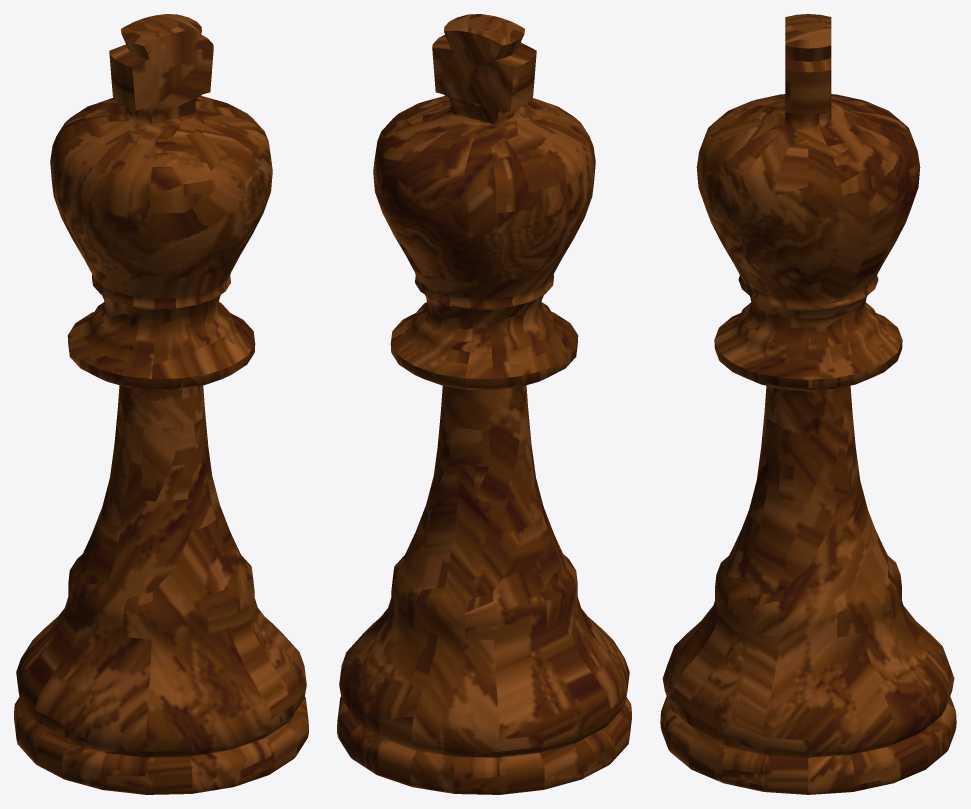
Rendered from reyNegro.obj.
The picture shows the model from 3 angles, left to right: view 1: azimuth 30°, elevation 25°; view 2: azimuth 150°, elevation 25°; view 3: azimuth 270°, elevation 25°; orthographic projection.
Visible parts, largest first — view 1: body; view 2: body; view 3: body.
Part boxes in pixels (left/top/right/bottom): body: left=14, top=14, right=308, bottom=794; body: left=337, top=14, right=631, bottom=794; body: left=660, top=14, right=956, bottom=794.
Bounding box in the file's own units: 1.86 × 4.94 × 1.86.
Materials: 1 (1 with a texture image).
